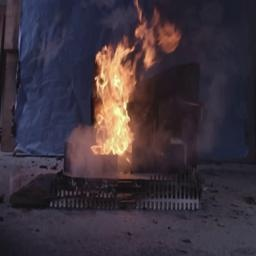fire: (60, 4, 180, 179)
